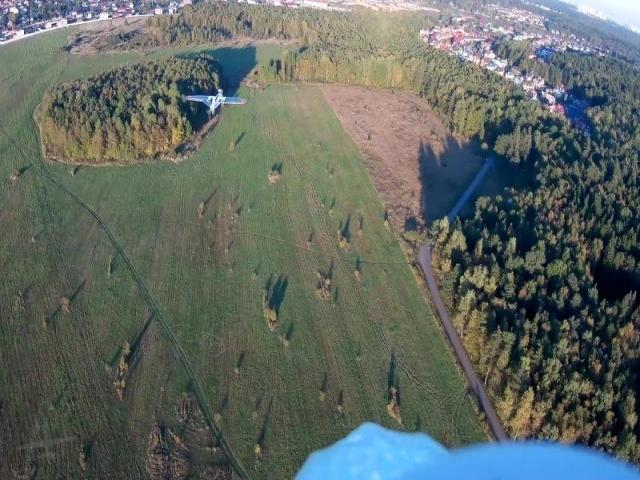hedef: (185, 82, 246, 120)
